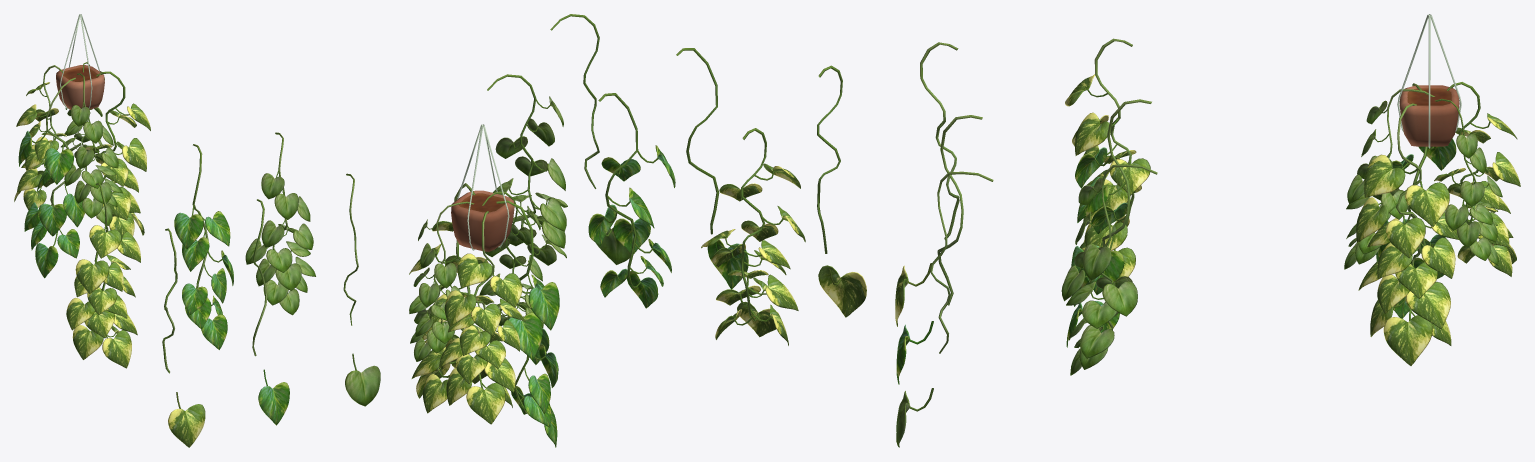
The model's file is hangingPothos_edit_for_FBX.fbx.
3 views of the same model, side by side, from view 1: azimuth 30°, elevation 25°; view 2: azimuth 150°, elevation 25°; view 3: azimuth 270°, elevation 25° (orthographic). The views are drawn at different scales.
Parts seen in each view (by area): view 1: Plants04, Plants01, Plants03, Plants02, Pot00, Leaf01, Leaf03, Leaf02, Stem02, Stem01, Stem03; view 2: Plants04, Plants01, Plants02, Plants03, Pot00, Leaf01, Leaf02, Stem02, Stem01, Stem03, Leaf03; view 3: Plants04, Plants03, Plants01, Pot00, Plants02, Stem01, Stem02, Stem03.
Part boxes in pixels (bbox=[...]): Plants04: bbox=[14, 62, 150, 278]; Plants01: bbox=[66, 183, 140, 368]; Plants03: bbox=[245, 132, 315, 315]; Plants02: bbox=[174, 144, 233, 349]; Pot00: bbox=[56, 14, 104, 109]; Leaf01: bbox=[168, 392, 205, 447]; Leaf03: bbox=[345, 353, 380, 406]; Leaf02: bbox=[258, 369, 289, 425]; Stem02: bbox=[252, 199, 267, 356]; Stem01: bbox=[162, 228, 177, 373]; Stem03: bbox=[343, 173, 358, 325]; Plants04: bbox=[409, 183, 559, 447]; Plants01: bbox=[701, 128, 805, 345]; Plants02: bbox=[588, 93, 675, 308]; Plants03: bbox=[487, 74, 567, 265]; Pot00: bbox=[451, 124, 514, 251]; Leaf01: bbox=[818, 265, 866, 317]; Leaf02: bbox=[707, 239, 748, 289]; Stem02: bbox=[676, 48, 719, 234]; Stem01: bbox=[817, 65, 842, 253]; Stem03: bbox=[550, 14, 599, 188]; Leaf03: bbox=[596, 227, 630, 264]; Plants04: bbox=[1344, 82, 1520, 365]; Plants03: bbox=[1061, 164, 1157, 375]; Plants01: bbox=[1065, 38, 1150, 278]; Pot00: bbox=[1397, 14, 1461, 148]; Plants02: bbox=[1066, 99, 1151, 347]; Stem01: bbox=[920, 42, 959, 239]; Stem02: bbox=[937, 115, 982, 305]; Stem03: bbox=[930, 171, 993, 353].
Size of the model in its own units: 1876 by 2057 by 3131.
